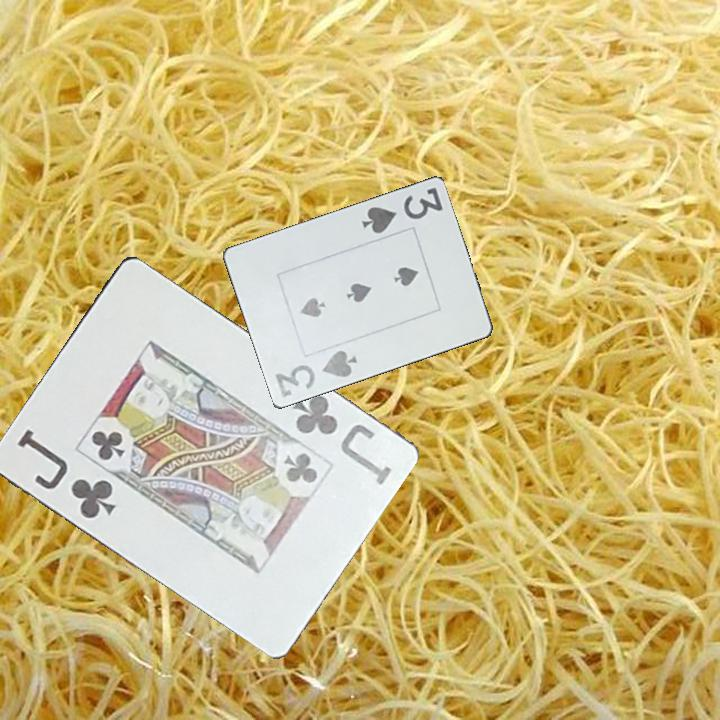3s: (271, 347, 360, 401), (357, 184, 446, 237)
Jc: (287, 391, 394, 489), (12, 425, 119, 522)
